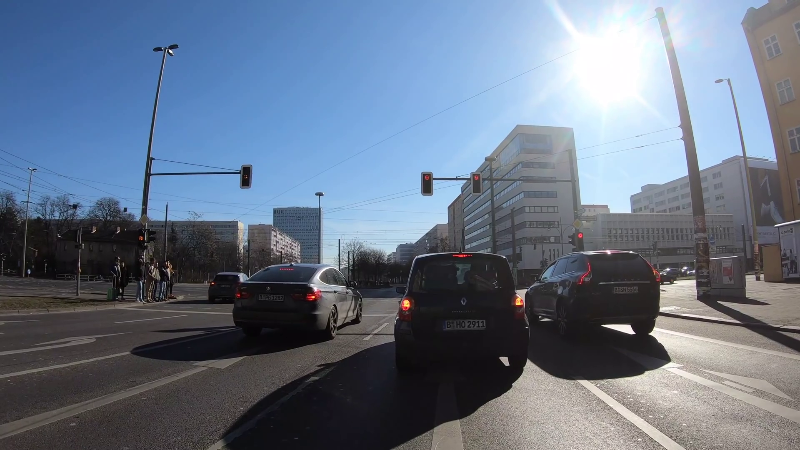Plate: (437, 316, 493, 333), (608, 284, 642, 296), (254, 292, 287, 303)
